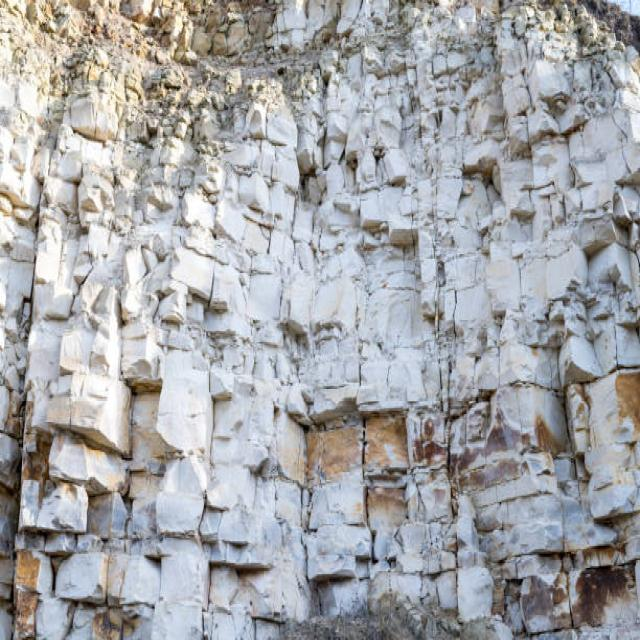Sedimentary: (1, 1, 638, 638)
